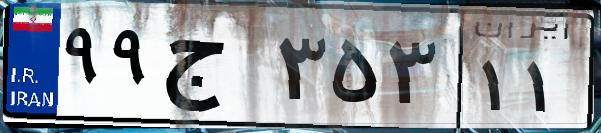1: (475, 38, 525, 113), (525, 38, 570, 115)
3: (270, 28, 330, 110), (385, 28, 445, 110)
5: (330, 28, 385, 110)
9: (57, 26, 110, 100), (110, 28, 158, 98)
ج: (158, 20, 270, 120)
